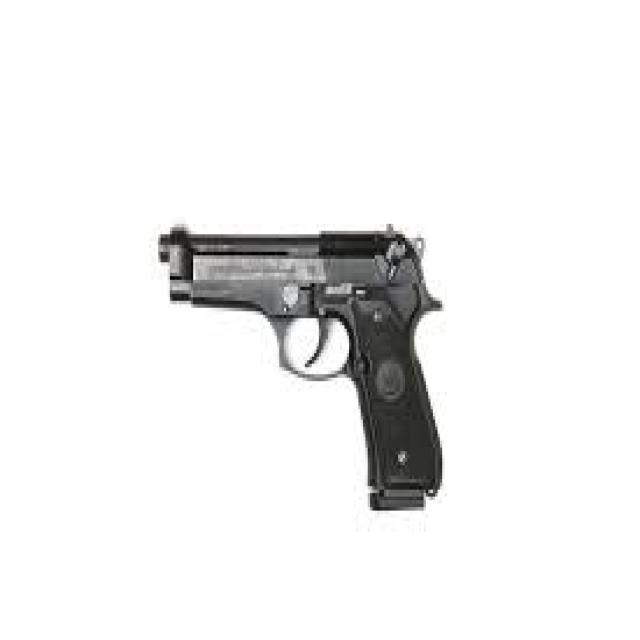pistol: (151, 210, 460, 526)
